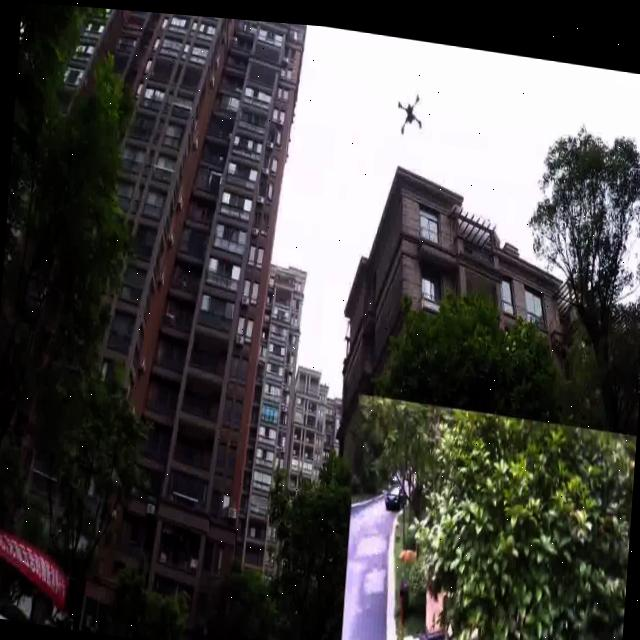drone: (380, 68, 430, 136)
